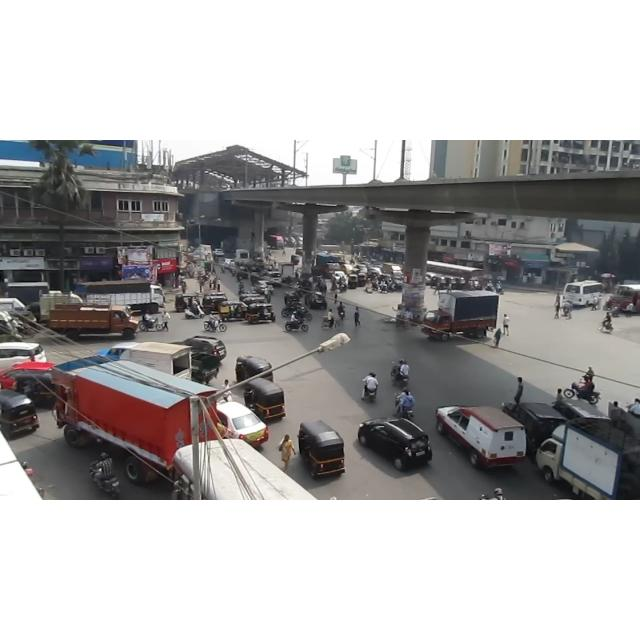auto: (296, 420, 349, 480), (2, 382, 42, 440), (242, 375, 287, 425), (15, 367, 63, 413), (237, 353, 273, 384), (247, 302, 280, 326), (218, 299, 250, 321), (176, 292, 201, 312), (285, 289, 301, 304)
truck: (48, 353, 219, 484), (532, 416, 640, 500), (417, 282, 505, 340), (48, 303, 150, 341), (72, 278, 169, 314), (267, 231, 289, 252), (235, 243, 253, 265), (279, 260, 297, 280)
